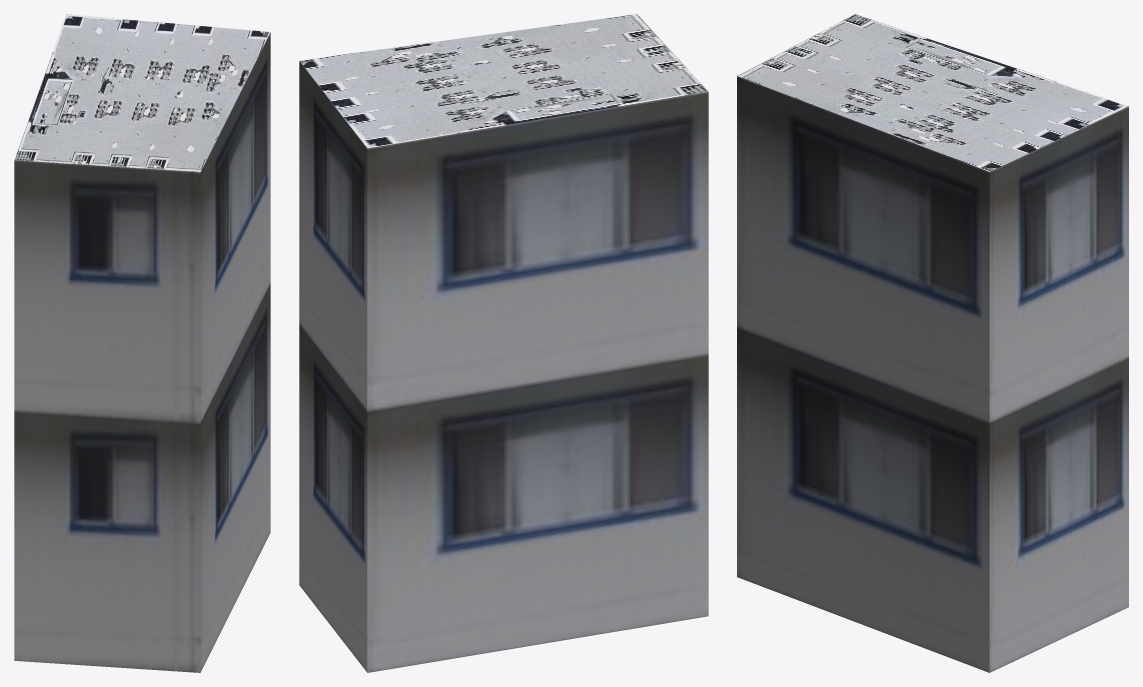
The model's file is ResTex__4996.fbx.
3 renders of one model, left to right at view 1: azimuth 30°, elevation 25°; view 2: azimuth 150°, elevation 25°; view 3: azimuth 270°, elevation 25°, orthographic. The views are drawn at different scales.
Visible parts, largest first — view 1: CityEngineMaterial_9_m, CityEngineMaterial_4_m; view 2: CityEngineMaterial_9_m, CityEngineMaterial_4_m; view 3: CityEngineMaterial_9_m, CityEngineMaterial_4_m.
Boxes of the visible parts, bbox=[...] form: CityEngineMaterial_9_m: bbox=[14, 32, 270, 672]; CityEngineMaterial_4_m: bbox=[14, 14, 270, 172]; CityEngineMaterial_9_m: bbox=[299, 61, 708, 672]; CityEngineMaterial_4_m: bbox=[299, 14, 708, 148]; CityEngineMaterial_9_m: bbox=[737, 76, 1128, 672]; CityEngineMaterial_4_m: bbox=[737, 14, 1128, 171].
Bounding box in the file's own units: 4.06 × 6 × 4.25.
2 materials, 2 textured.
